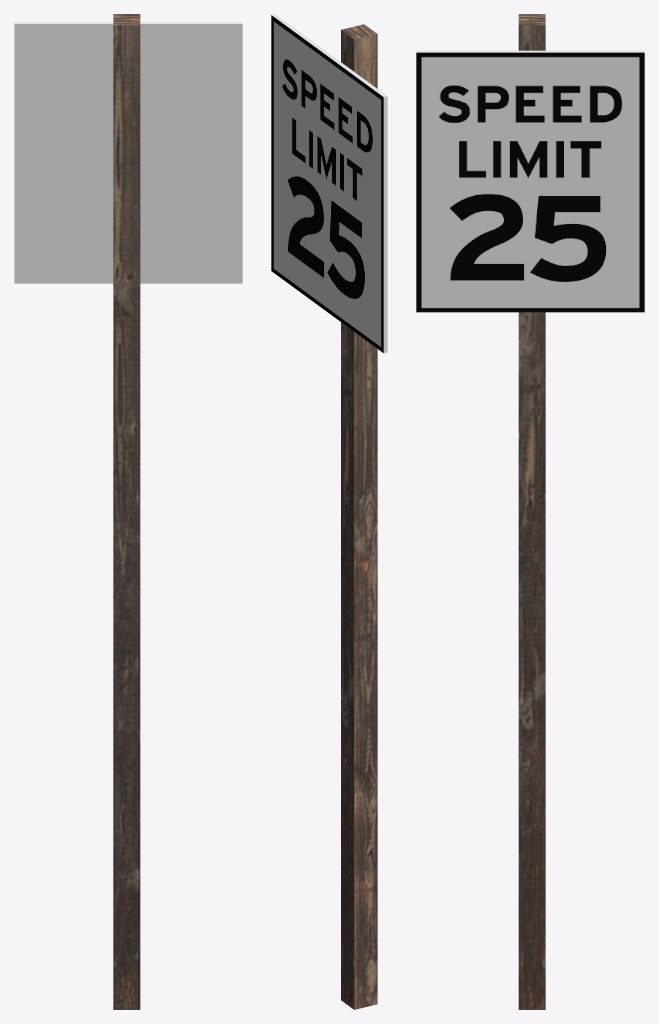
The model's file is YOS_Sign_07.fbx.
3 renders of one model, left to right at view 1: azimuth 90°, elevation 25°; view 2: azimuth 210°, elevation 25°; view 3: azimuth 270°, elevation 25°, orthographic.
Visible parts, largest first — view 1: Sign, WoodPost_2; view 2: Sign, WoodPost_2; view 3: Sign, WoodPost_2.
Boxes of the visible parts, x1,y1,x2,y2 form: Sign: (14,22,242,283); WoodPost_2: (113,14,140,1009); Sign: (271,14,387,353); WoodPost_2: (341,24,377,1009); Sign: (416,50,644,312); WoodPost_2: (518,14,545,1009).
Size of the model in its own units: 9.17 by 200 by 42.02.
